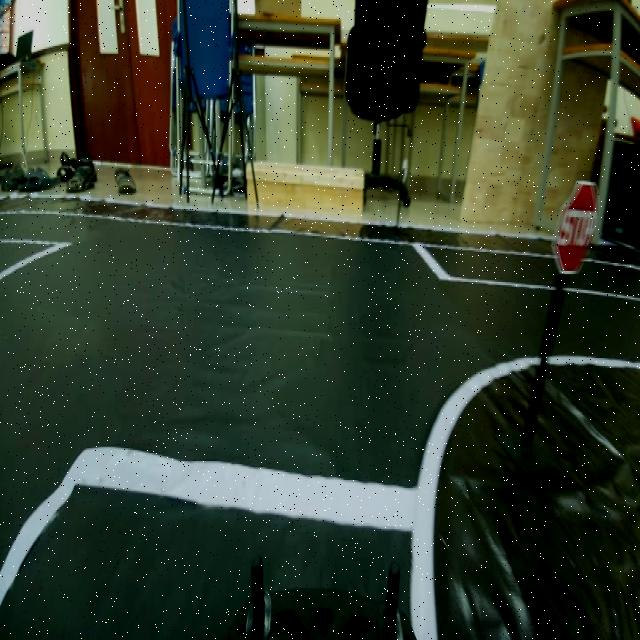stop: (554, 172, 600, 278)
